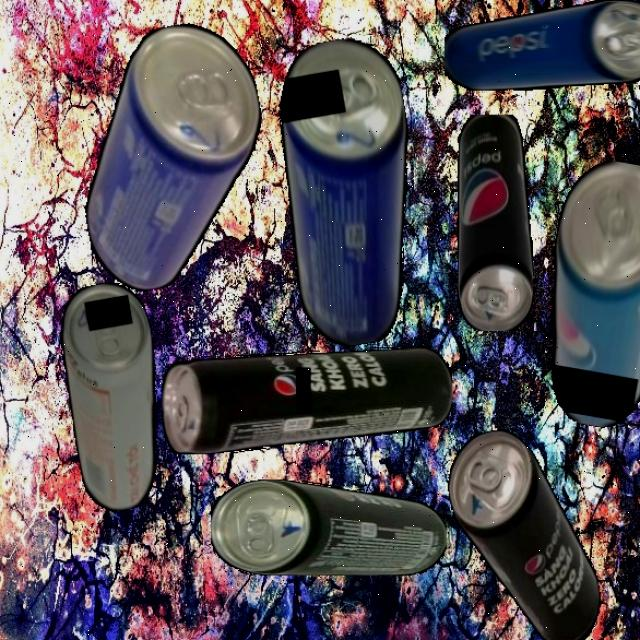debris: (57, 14, 287, 298), (259, 30, 443, 352), (440, 418, 607, 640), (525, 154, 640, 434), (50, 278, 180, 516), (161, 348, 452, 454), (210, 478, 447, 576), (443, 0, 640, 91), (456, 114, 533, 331)
